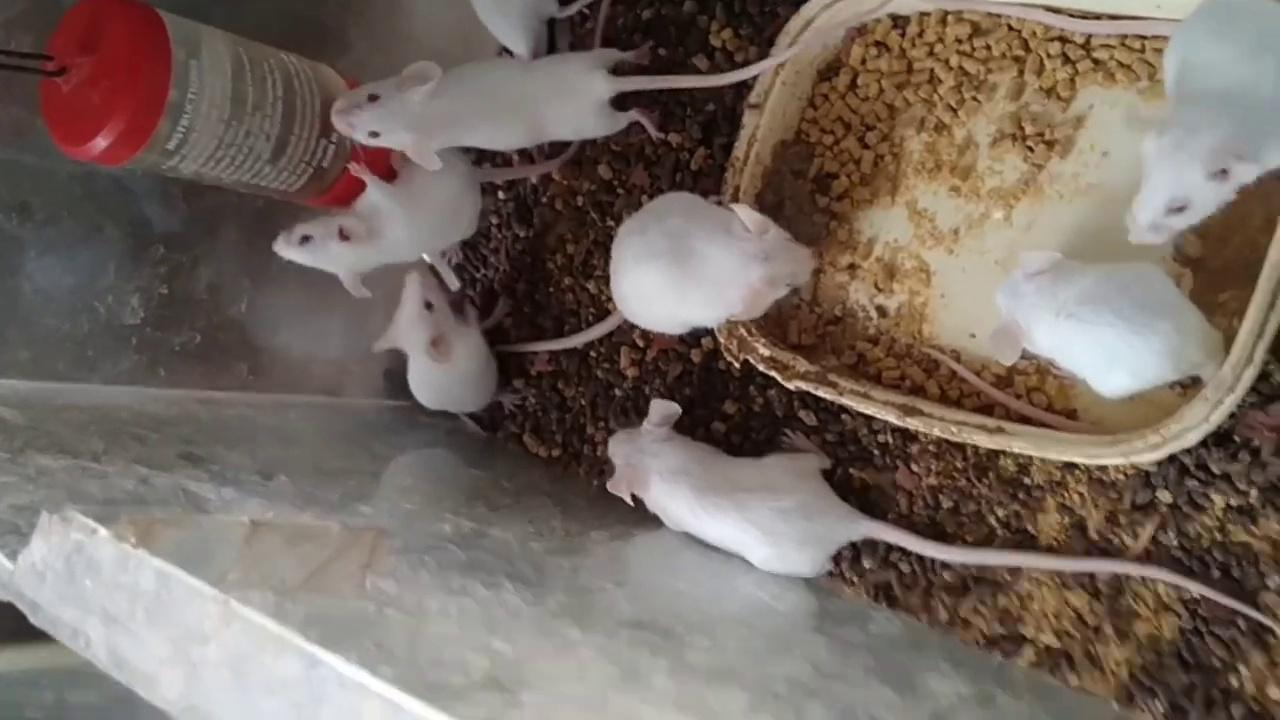rat: (606, 397, 1280, 635), (892, 0, 1280, 246), (333, 0, 894, 170), (496, 192, 816, 353), (274, 140, 582, 299), (986, 249, 1227, 398), (375, 269, 500, 412)
